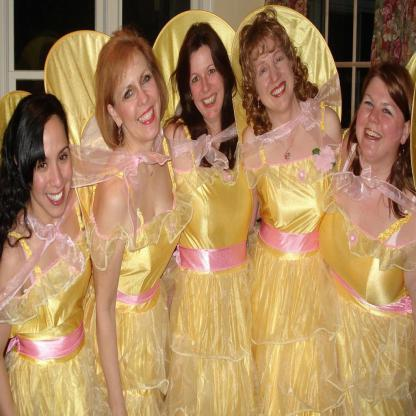face: (357, 69, 406, 161), (31, 114, 73, 218), (116, 46, 161, 140), (251, 38, 295, 111), (191, 43, 226, 119)
